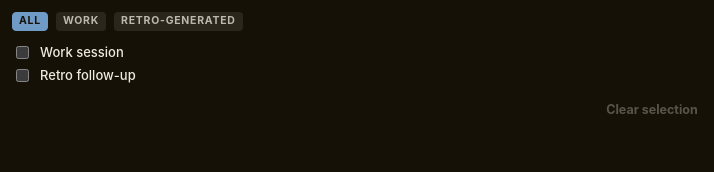
Test: SessionPicker › filters to retro-generated sessions only
The image size is (714, 172).
Click the button "Retro-generated": (178,21) [114,12,243,30]
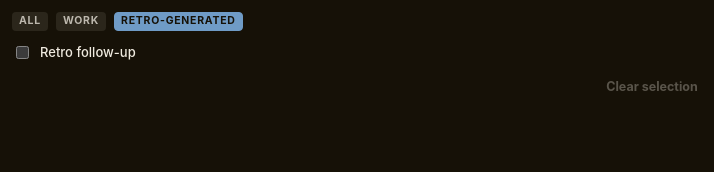
Expected: the checkbox labelled "Retro follow-up" is shown, [16,46,29,58]
Expected: the label labelled "Work session" is gone
